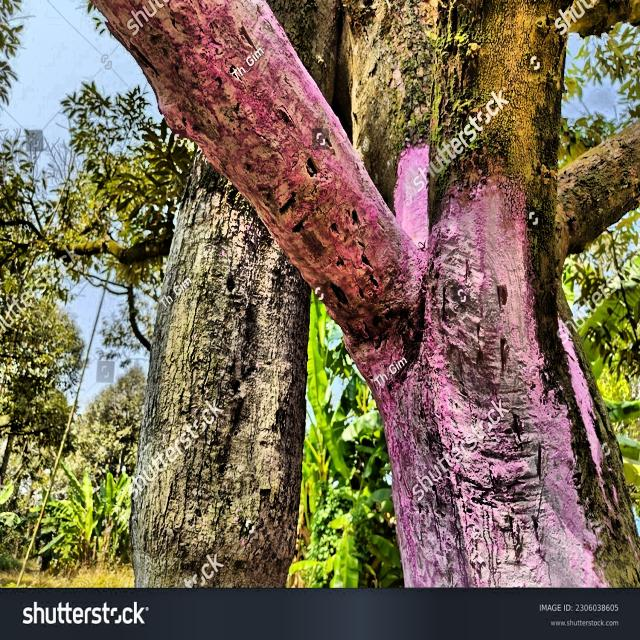arvore: (312, 0, 639, 611), (106, 0, 340, 587)
